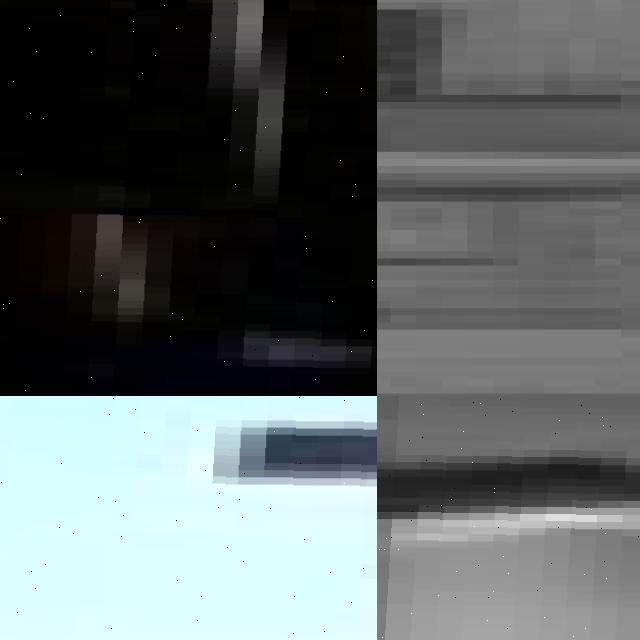street light: (0, 0, 377, 396), (0, 396, 377, 640), (377, 396, 640, 640), (377, 415, 640, 640)
